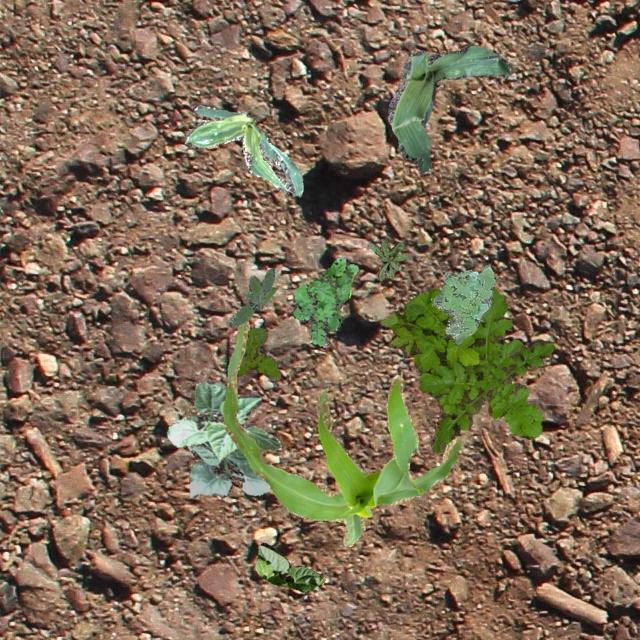crop: (222, 319, 460, 546), (386, 45, 511, 172), (184, 104, 302, 194), (166, 380, 280, 460), (187, 444, 271, 496), (254, 542, 324, 592)
weed: (380, 286, 552, 452), (292, 256, 358, 346), (432, 264, 494, 342), (230, 266, 276, 326), (236, 326, 280, 379), (367, 238, 408, 280)
